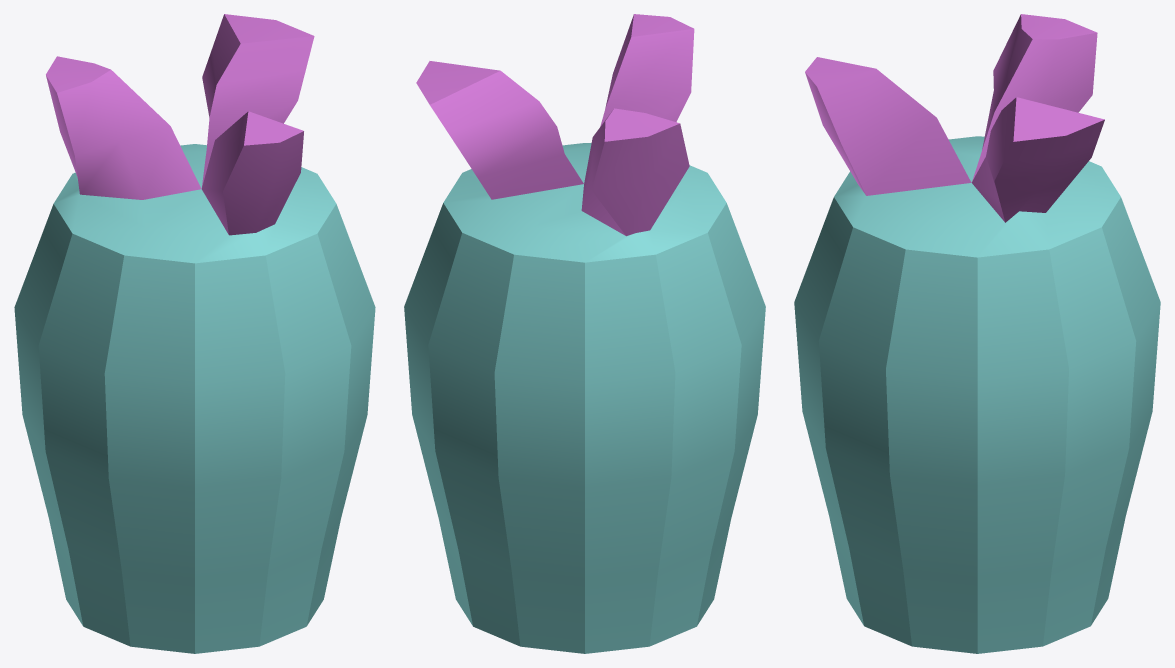
The model's file is BarrelCoral1.fbx.
3 views of the same model, side by side, from view 1: azimuth 30°, elevation 25°; view 2: azimuth 150°, elevation 25°; view 3: azimuth 270°, elevation 25° (orthographic).
Parts seen in each view (by area): view 1: pCylinder2; view 2: pCylinder2; view 3: pCylinder2.
Part boxes in pixels (left/top/right/bottom): pCylinder2: left=14, top=14, right=375, bottom=653; pCylinder2: left=404, top=14, right=765, bottom=653; pCylinder2: left=794, top=14, right=1160, bottom=653.
Size of the model in its own units: 1.65 by 2.68 by 1.65.
